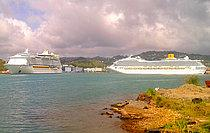Ship: (103, 52, 208, 79), (3, 46, 66, 76)
